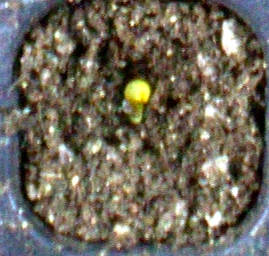pepper seed: (51, 38, 196, 163), (47, 26, 199, 132)
